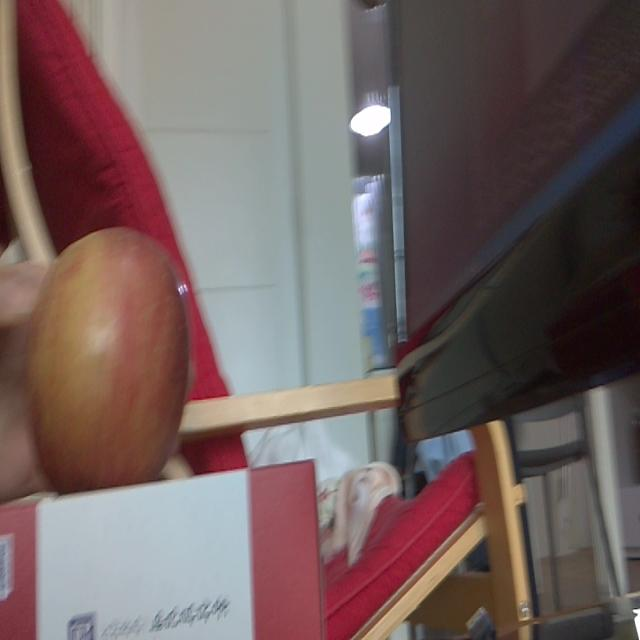apple: (27, 227, 188, 486)
